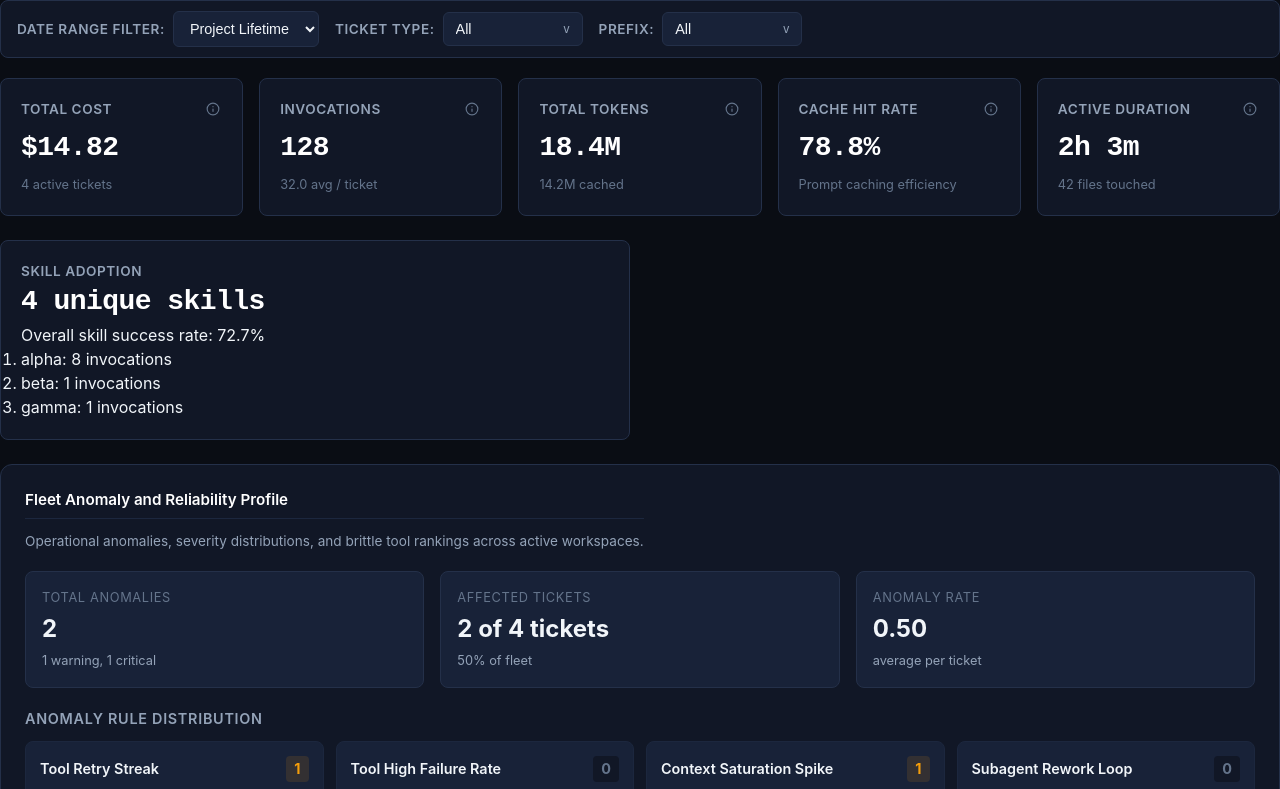
Test: FleetOverview View Component › shows ranked adoption and invocation-weighted success, then refreshes safely without skill facts
The width and height of the screenshot is (1280, 789).
Expected: the text "4 unique skills" is shown, [21,286,265,317]
Expected: the text "Overall skill success rate: 72.7%" is shown, [21,325,265,345]
Select "Last 7 Days" in the dropdown named "Date Range Preset" at point(246, 29), box [173,11,319,47]
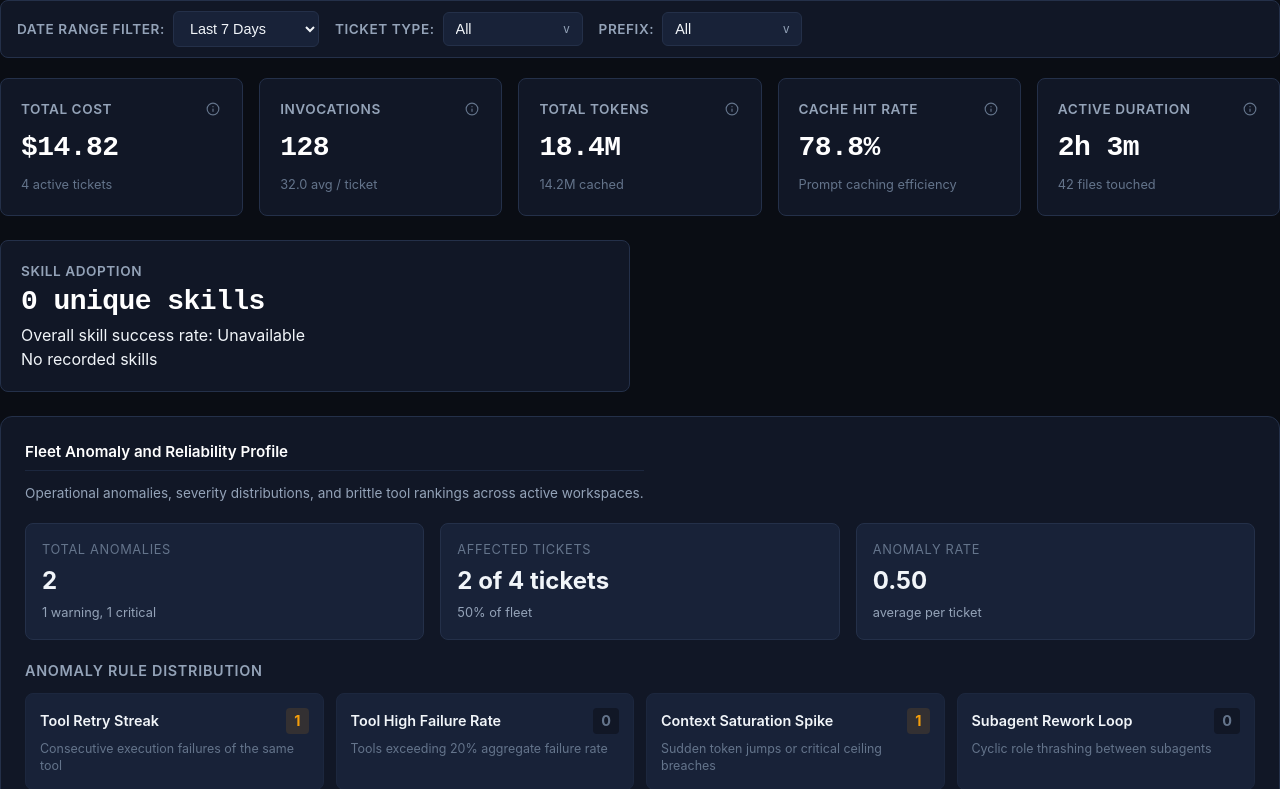
Expected: the text "0 unique skills" is shown, [21,286,265,317]
Expected: the text "No recorded skills" is shown, [21,349,158,369]
Expected: the text "Overall skill success rate: Unavailable" is shown, [21,325,305,345]
